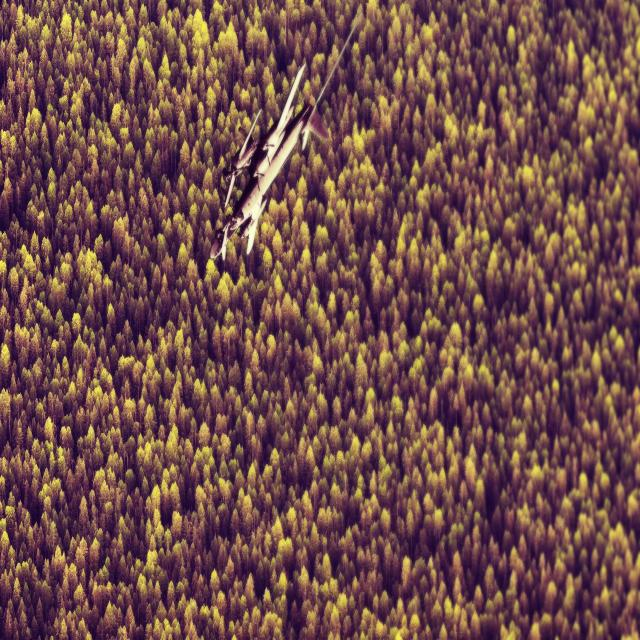airplane: (209, 13, 363, 263)
